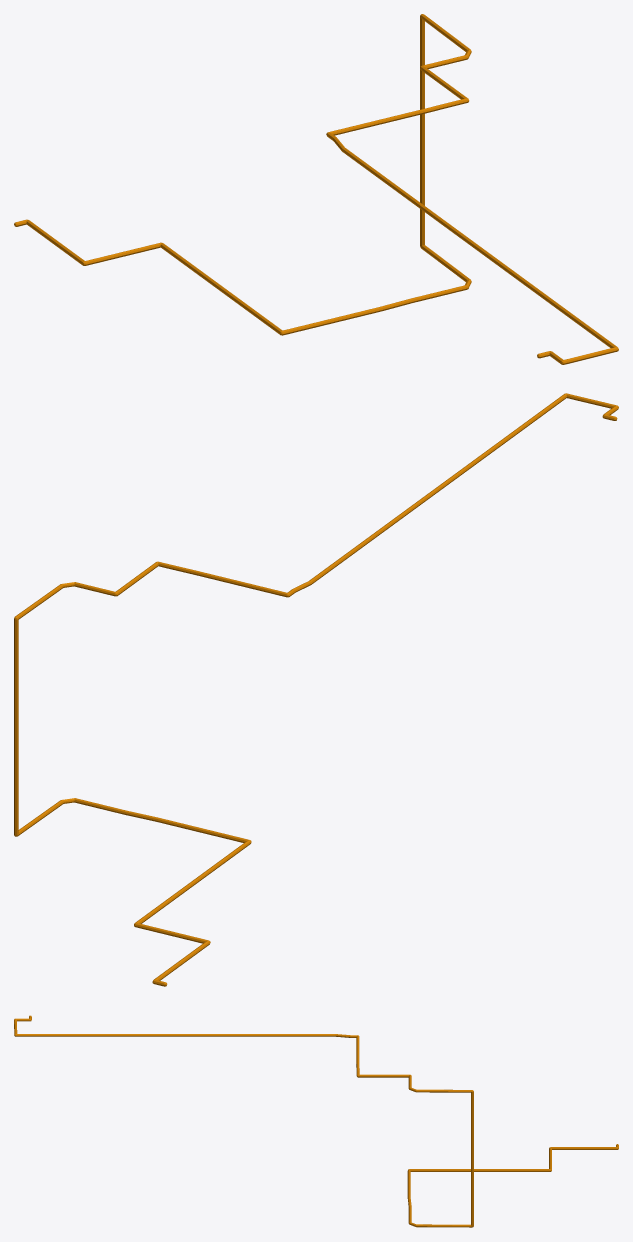
3 views of the same model, one above another, from view 1: azimuth 30°, elevation 25°; view 2: azimuth 150°, elevation 25°; view 3: azimuth 270°, elevation 25° (orthographic). The views are drawn at different scales.
Bounding box in the file's own units: 1304 × 1020 × 4068.
